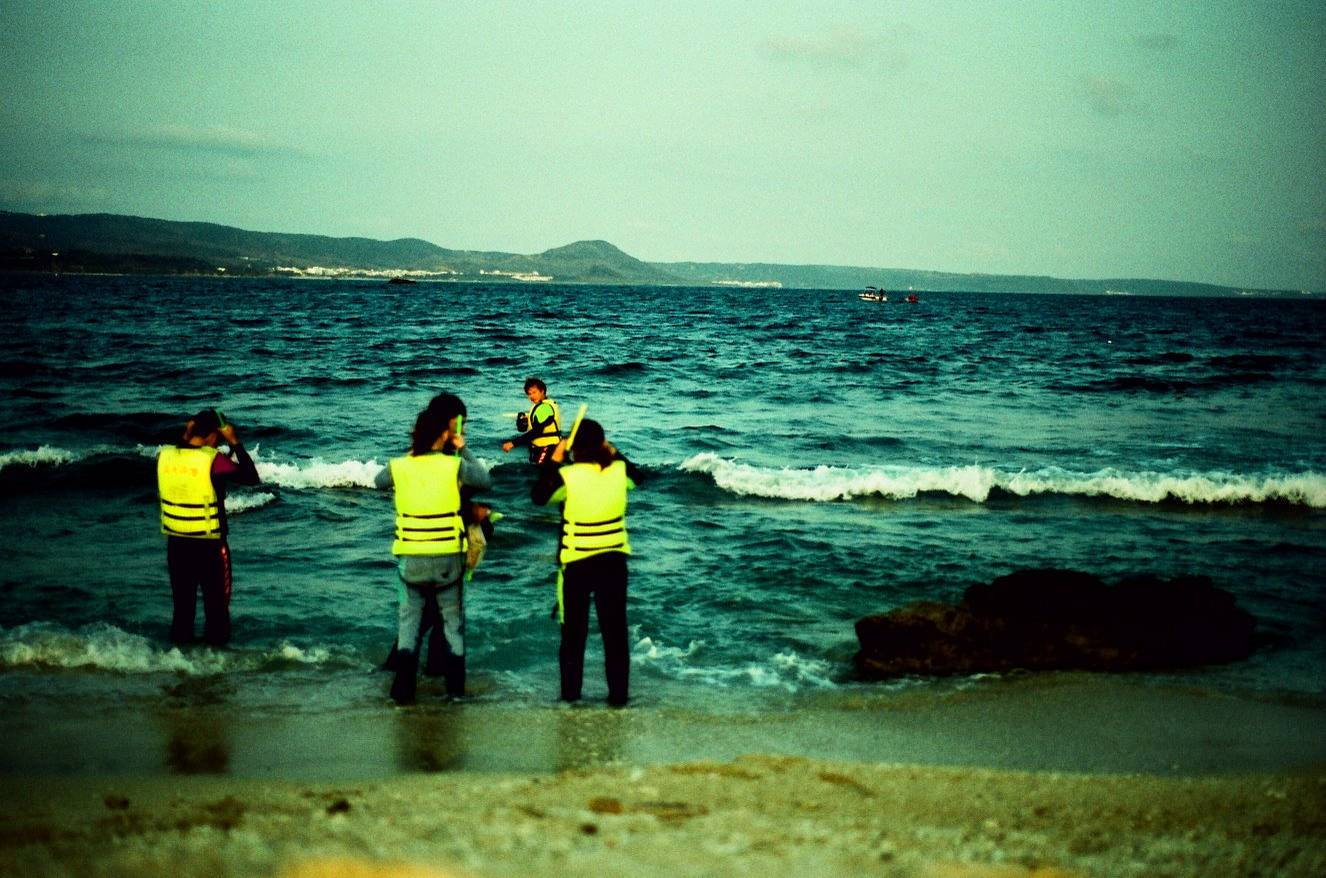Humano: (370, 409, 492, 703), (536, 416, 642, 706), (150, 406, 264, 649), (500, 373, 572, 507)
